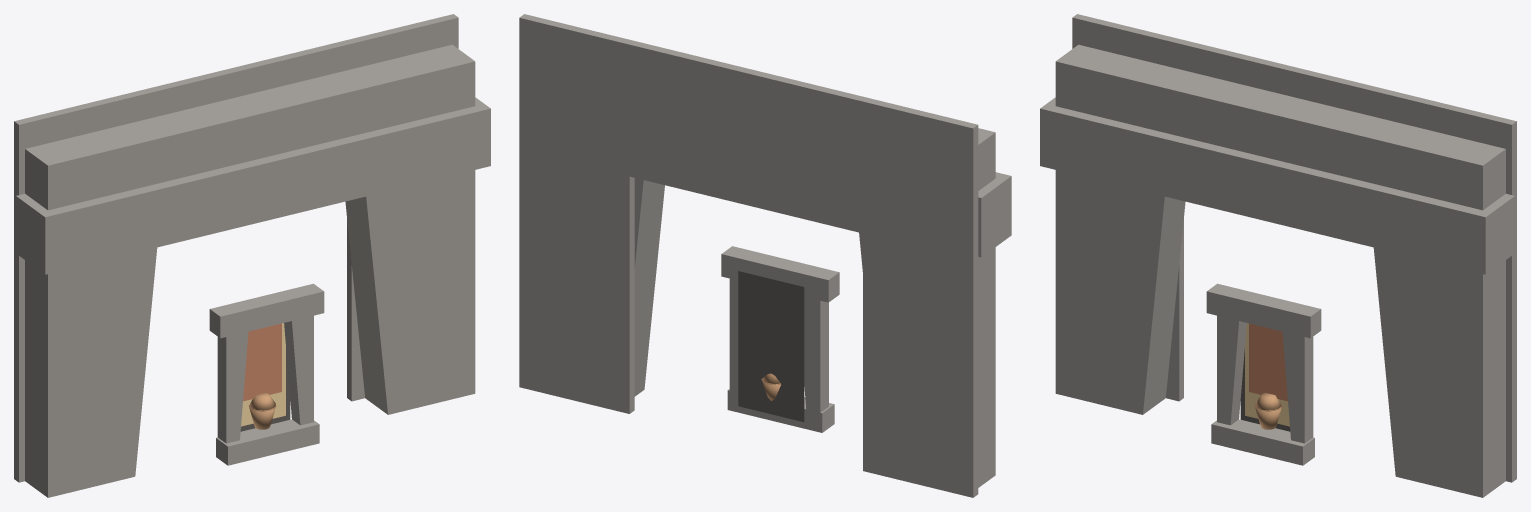
Rendered from inca.glb.
The picture shows the model from 3 angles, left to right: view 1: azimuth 30°, elevation 25°; view 2: azimuth 150°, elevation 25°; view 3: azimuth 330°, elevation 25°; orthographic projection. The views are drawn at different scales.
Parts seen in each view (by area): view 1: Stone_lintel, Stone_course, Stone_jambL, Stone_jambR, Stone_backHdr, Stone_backL, Stone_backR, Stone_nicheLintel, Stone_nicheL, Stone_nicheSill, Stone_nicheR, Textile_runner (+1 smaller); view 2: Stone_backL, Stone_backR, Stone_backHdr, Dark_nicheback, Stone_jambR, Stone_jambL, Stone_nicheLintel, Stone_nicheL, Stone_lintel, Stone_nicheR, Stone_nicheSill, Stone_course; view 3: Stone_lintel, Stone_course, Stone_jambR, Stone_jambL, Stone_backHdr, Stone_backR, Stone_backL, Stone_nicheLintel, Stone_nicheR, Stone_nicheSill, Stone_nicheL, Textile_runner (+1 smaller).
Part boxes in pixels (x1,y1,x2,y2): Stone_lintel: (16,97,490,274); Stone_course: (25,44,475,210); Stone_jambL: (25,247,157,497); Stone_jambR: (345,170,475,414); Stone_backHdr: (121,40,351,124); Stone_backL: (14,95,125,482); Stone_backR: (347,14,458,401); Stone_nicheLintel: (209,283,324,338); Stone_nicheL: (217,332,248,443); Stone_nicheSill: (216,419,319,465); Stone_nicheR: (284,315,313,425); Textile_runner: (243,323,281,401); Stone_backL: (863,98,978,497); Stone_backR: (519,14,634,413); Stone_backHdr: (629,41,867,233); Dark_nicheback: (738,271,804,422); Stone_jambR: (634,178,664,396); Stone_jambL: (859,232,995,487); Stone_nicheLintel: (721,246,839,302); Stone_nicheL: (804,297,828,429); Stone_lintel: (978,172,1011,257); Stone_nicheR: (729,269,753,413); Stone_nicheSill: (727,389,834,432); Stone_course: (978,128,995,190); Stone_lintel: (1040,97,1514,274); Stone_course: (1055,44,1505,210); Stone_jambR: (1373,247,1505,497); Stone_jambL: (1055,170,1185,414); Stone_backHdr: (1179,40,1409,124); Stone_backR: (1405,95,1516,482); Stone_backL: (1072,14,1183,401); Stone_nicheLintel: (1206,283,1321,338); Stone_nicheR: (1282,332,1313,443); Stone_nicheSill: (1211,419,1314,465); Stone_nicheL: (1217,315,1246,425); Textile_runner: (1249,323,1287,401).
Size of the model in its own units: 7.3 by 5.6 by 1.13.
